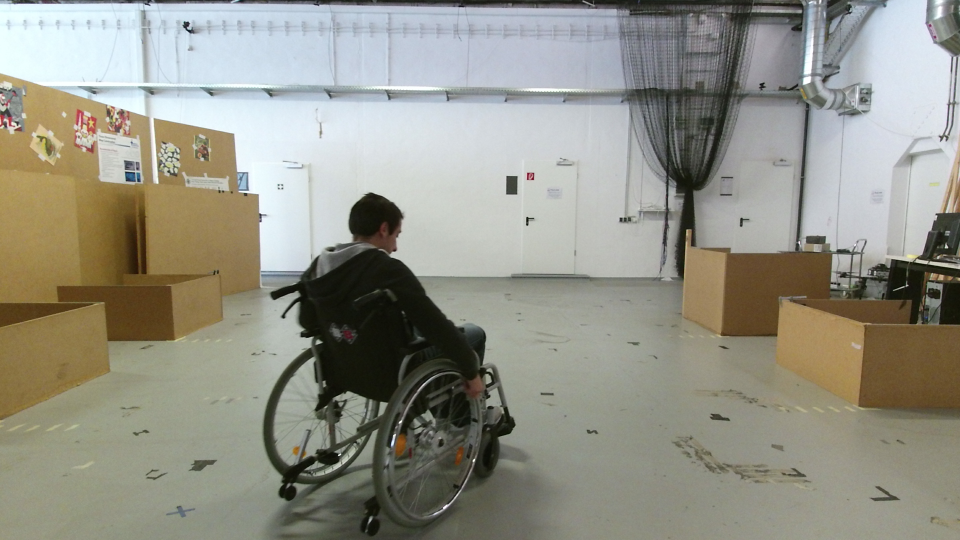wheelchair: (259, 191, 514, 536)
